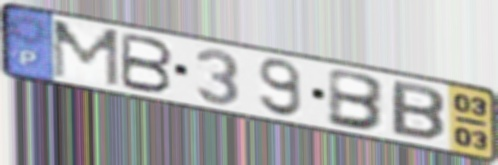3: (193, 46, 242, 108)
9: (255, 56, 305, 120)
B: (325, 65, 389, 133), (388, 78, 448, 144), (118, 30, 176, 95)
M: (50, 17, 122, 90)
